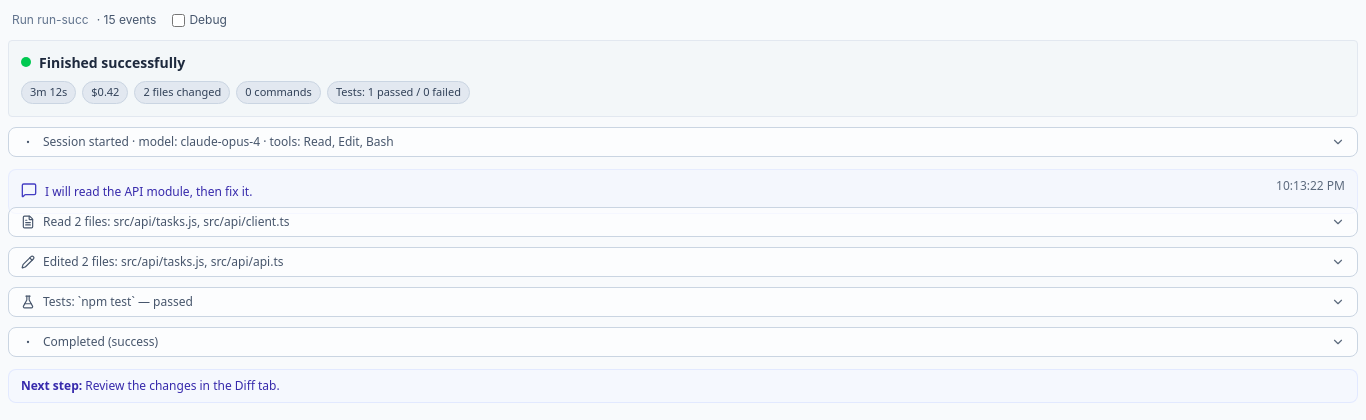
Test case: RunLogPane timeline › expands a group on click and shows rows
Step 1. Click the button "Read 2 files: src/api/tasks.js, src/api/client.ts" → (166, 221), box [8, 206, 1358, 236]
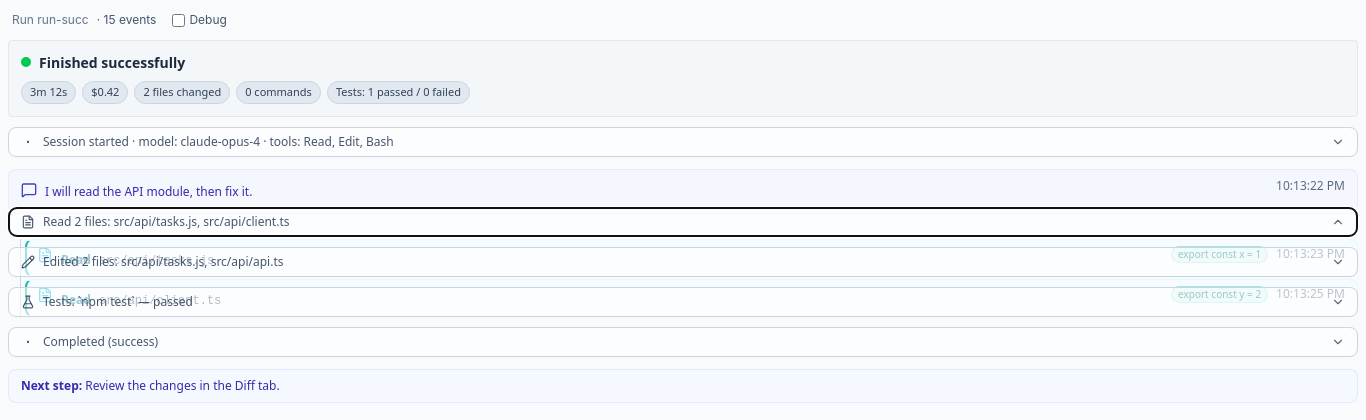
expect the button "Read 2 files: src/api/tasks.js, src/api/client.ts" is expanded: met, box [8, 206, 1358, 236]
